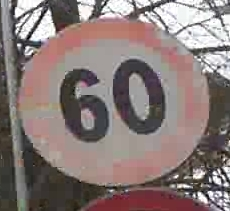limite 60: (16, 13, 211, 188)
